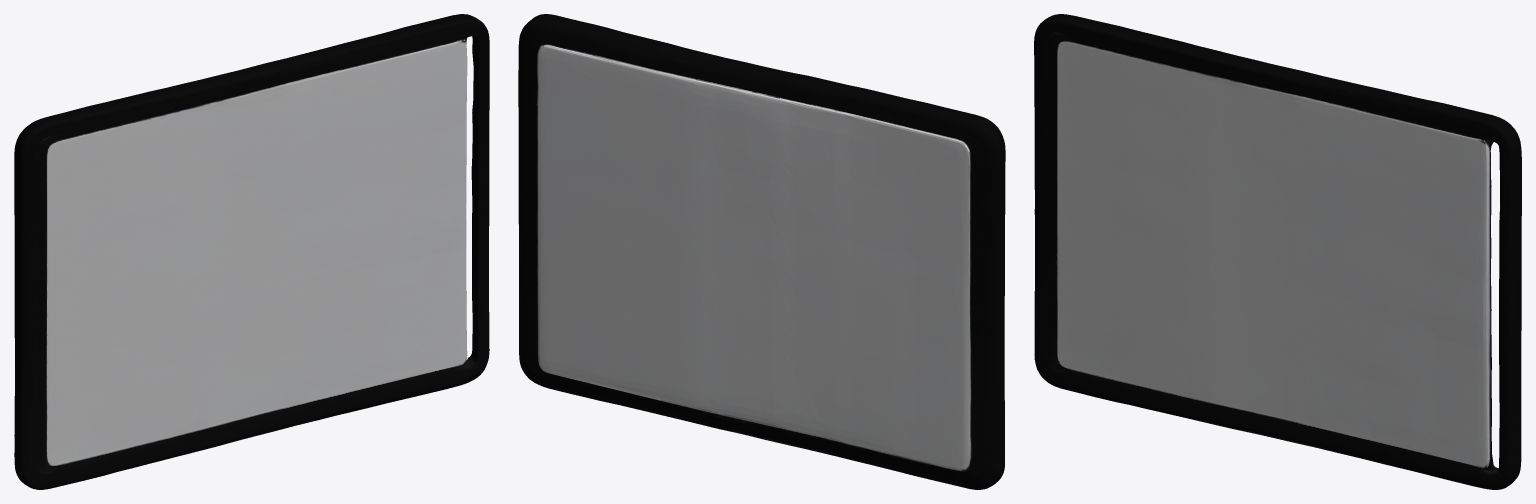
The model's file is tablet.glb.
3 views of the same model, side by side, from view 1: azimuth 30°, elevation 25°; view 2: azimuth 150°, elevation 25°; view 3: azimuth 330°, elevation 25° (orthographic).
Parts seen in each view (by area): view 1: world; view 2: world; view 3: world.
Boxes of the visible parts, left/top/right/bottom form: world: left=14, top=14, right=489, bottom=489; world: left=518, top=14, right=1005, bottom=489; world: left=1034, top=14, right=1521, bottom=489.
Size of the model in its own units: 1 by 0.7437 by 0.0672.
Materials: 1 (1 with a texture image).
